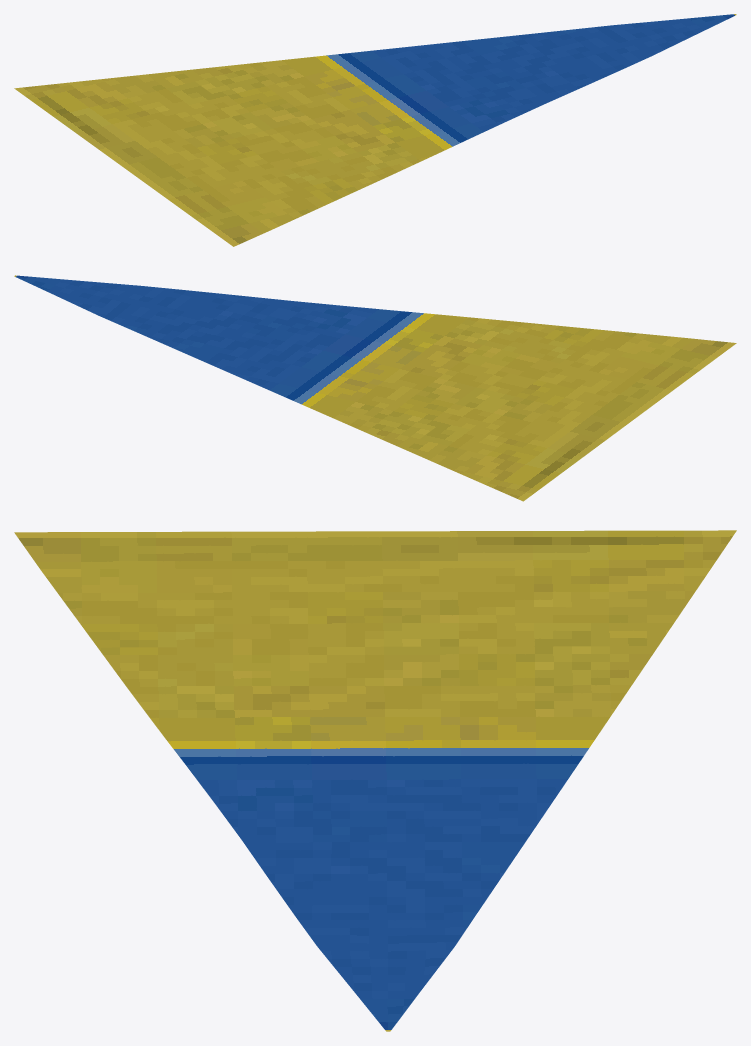
The model's file is p6_anim_nautical_flag_01_LOD0.obj.
3 renders of one model, top to bottom at view 1: azimuth 30°, elevation 25°; view 2: azimuth 150°, elevation 25°; view 3: azimuth 270°, elevation 25°, orthographic. The views are drawn at different scales.
Visible parts, largest first — view 1: mtl_p6_anim_nautical_flag_01; view 2: mtl_p6_anim_nautical_flag_01; view 3: mtl_p6_anim_nautical_flag_01.
Boxes of the visible parts, left/top/right/bottom form: mtl_p6_anim_nautical_flag_01: left=14, top=14, right=736, bottom=246; mtl_p6_anim_nautical_flag_01: left=14, top=275, right=736, bottom=501; mtl_p6_anim_nautical_flag_01: left=14, top=530, right=736, bottom=1031.
Size of the model in its own units: 116 by 0 by 70.92.
